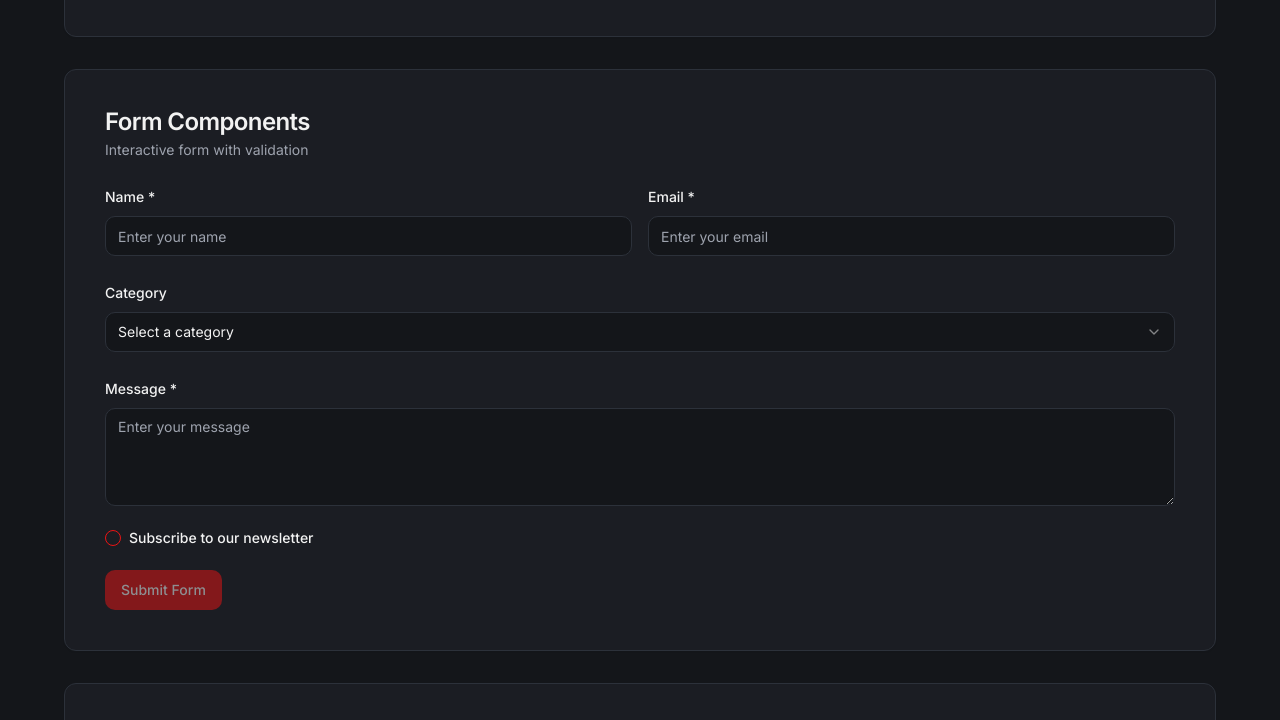
Test: Form Components E2E Tests › Select Component › should open and close dropdown correctly
(page scrolled)
Click the dropdown with test id "select-category": (176,332) [105, 312, 1175, 352]
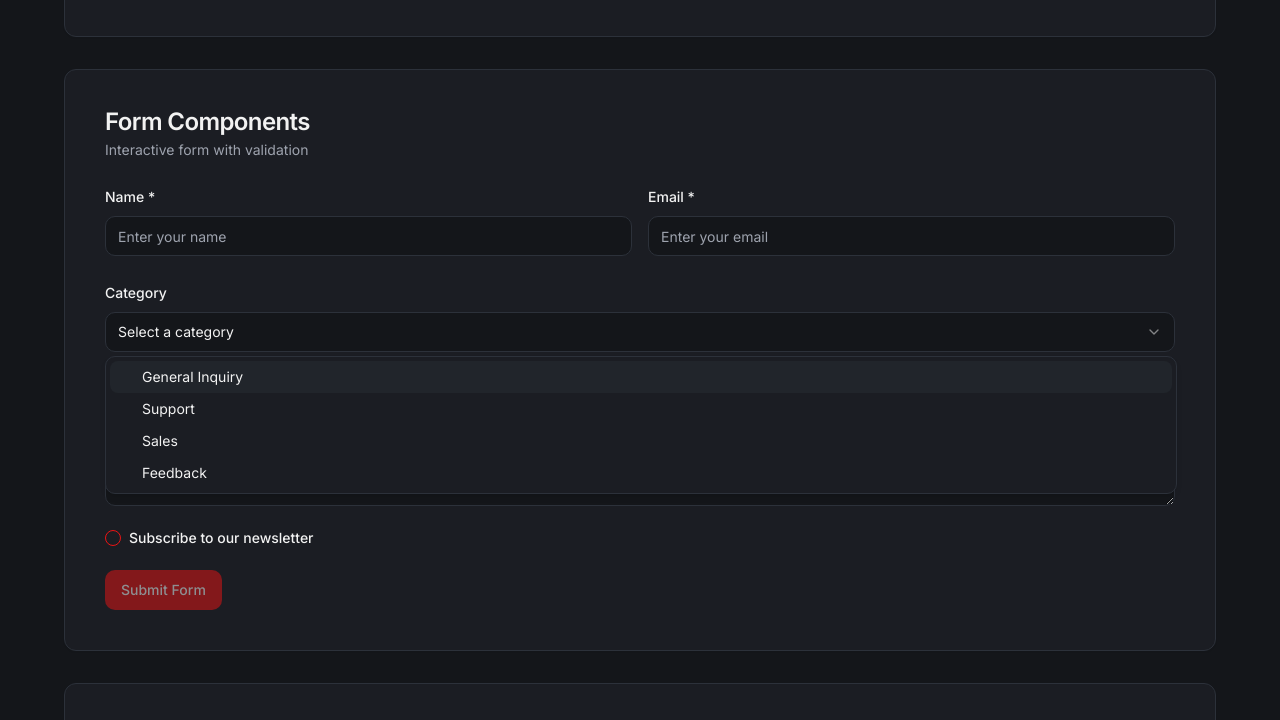
Now the option with test id "option-general" is shown, box [110, 361, 1172, 393]
Now the option with test id "option-support" is shown, box [142, 400, 195, 417]
Now the option with test id "option-sales" is shown, box [142, 432, 178, 449]
Note: Use Escape key instead of clicking outside for Radix UI Select
Press Esc
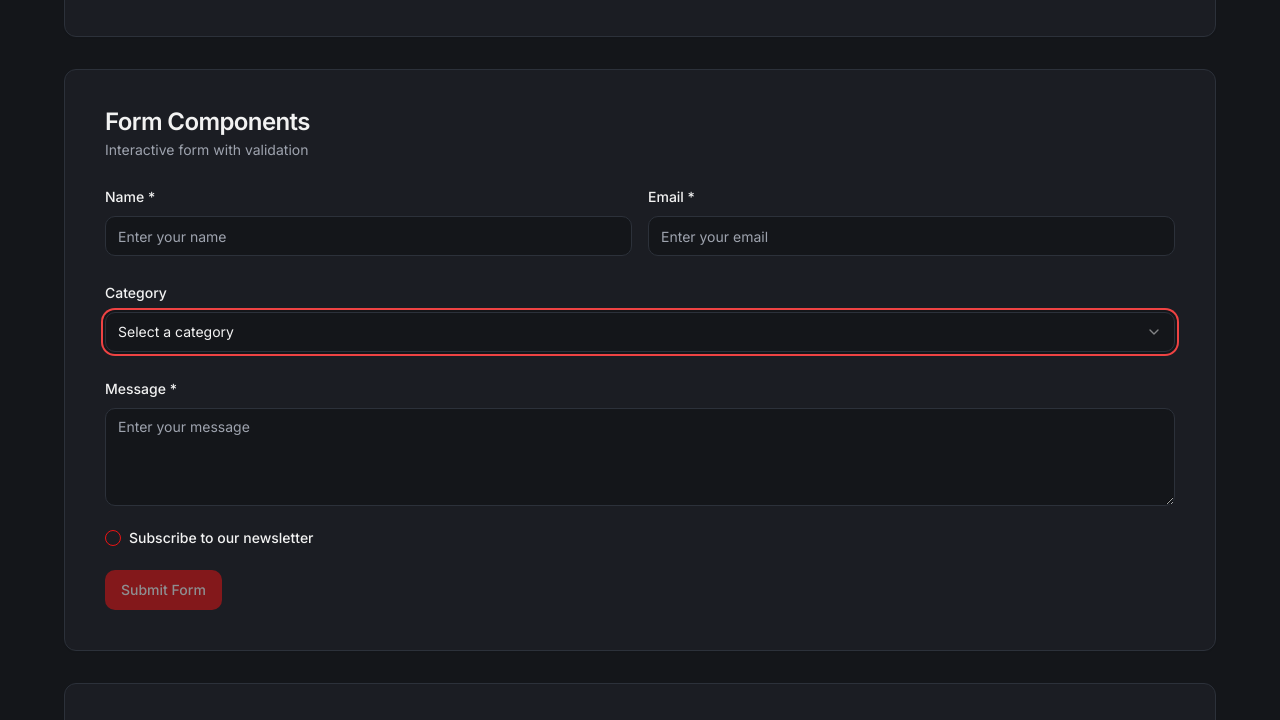
Now the option with test id "option-general" is gone
